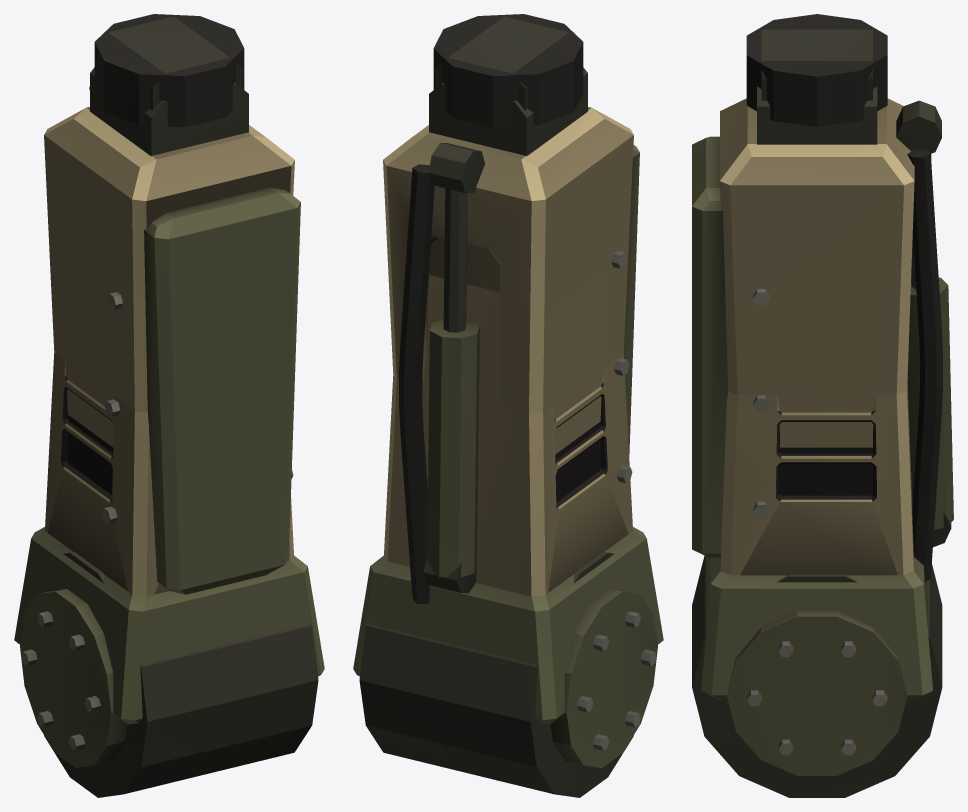
File: arm-rampart.glb
3 renders of one model, left to right at view 1: azimuth 30°, elevation 25°; view 2: azimuth 150°, elevation 25°; view 3: azimuth 270°, elevation 25°, orthographic.
Parts seen in each view (by area): view 1: Fore_Mesh, Upper_Mesh, Joint_Mesh; view 2: Upper_Mesh, Fore_Mesh, Joint_Mesh; view 3: Fore_Mesh, Upper_Mesh, Joint_Mesh.
Boxes of the visible parts, bbox=[...] form: Fore_Mesh: bbox=[44, 14, 300, 594]; Upper_Mesh: bbox=[14, 67, 324, 724]; Joint_Mesh: bbox=[20, 552, 318, 797]; Upper_Mesh: bbox=[353, 67, 663, 724]; Fore_Mesh: bbox=[383, 14, 639, 603]; Joint_Mesh: bbox=[359, 552, 657, 797]; Fore_Mesh: bbox=[692, 14, 942, 581]; Upper_Mesh: bbox=[701, 86, 953, 703]; Joint_Mesh: bbox=[692, 555, 942, 797].
Bounding box in the file's own units: 0.554 × 1.69 × 0.565.
